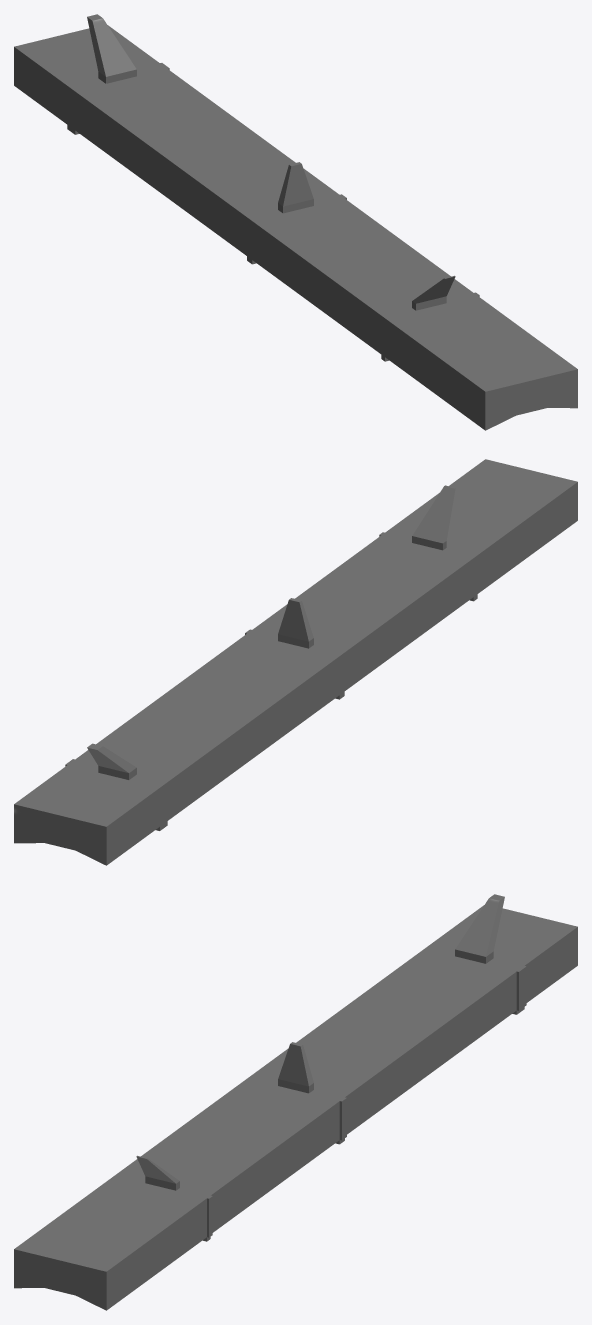
Rendered from Lamp.fbx.
The picture shows the model from 3 angles, top to bottom: view 1: azimuth 30°, elevation 25°; view 2: azimuth 150°, elevation 25°; view 3: azimuth 330°, elevation 25°; orthographic projection.
Visible parts, largest first — view 1: Lamp; view 2: Lamp; view 3: Lamp.
Boxes of the visible parts, x1=… form: Lamp: x1=14, y1=14, x2=577, y2=430; Lamp: x1=14, y1=459, x2=577, y2=865; Lamp: x1=14, y1=894, x2=577, y2=1310.
Bounding box in the file's own units: 166 × 145 × 1433.
